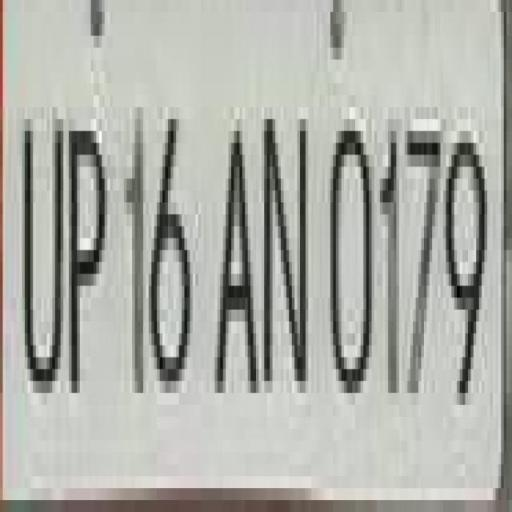number plate: (0, 23, 485, 511)
